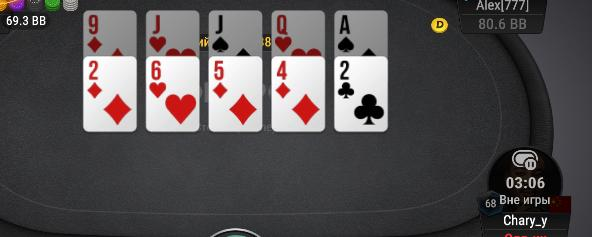2c: (336, 58, 389, 132)
2d: (85, 58, 137, 131)
4d: (273, 59, 326, 131)
5d: (210, 58, 263, 130)
6h: (146, 58, 200, 130)
9d: (84, 11, 136, 56)
As: (335, 10, 386, 55)
Jh: (148, 12, 198, 56)
Js: (210, 12, 262, 56)
Qh: (273, 12, 324, 55)
